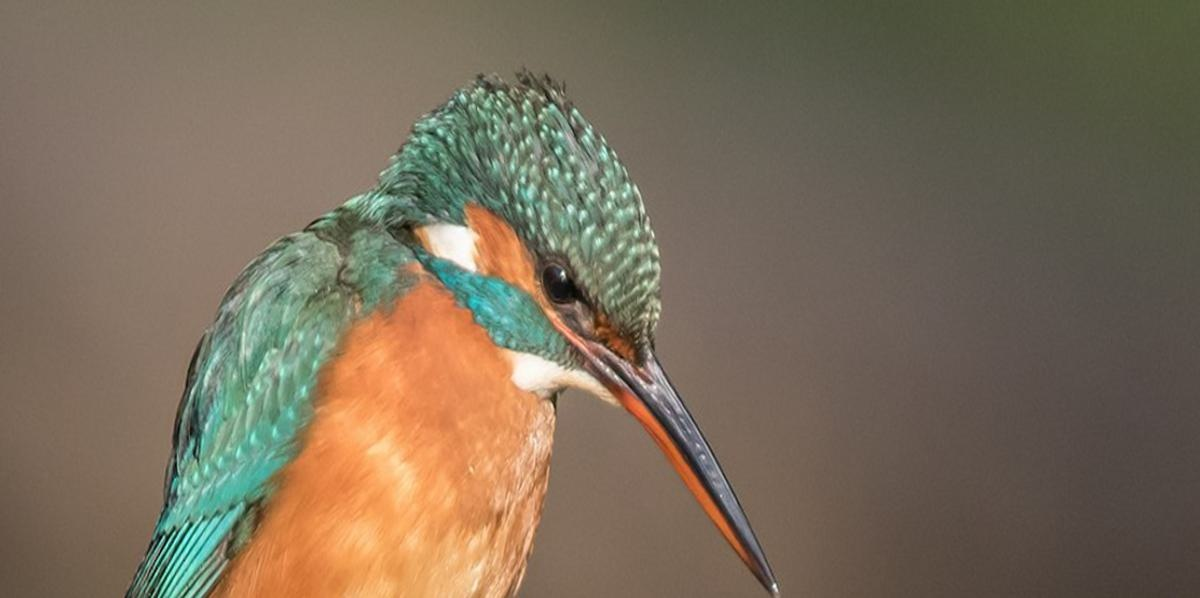kingfisher: (137, 74, 792, 598)
